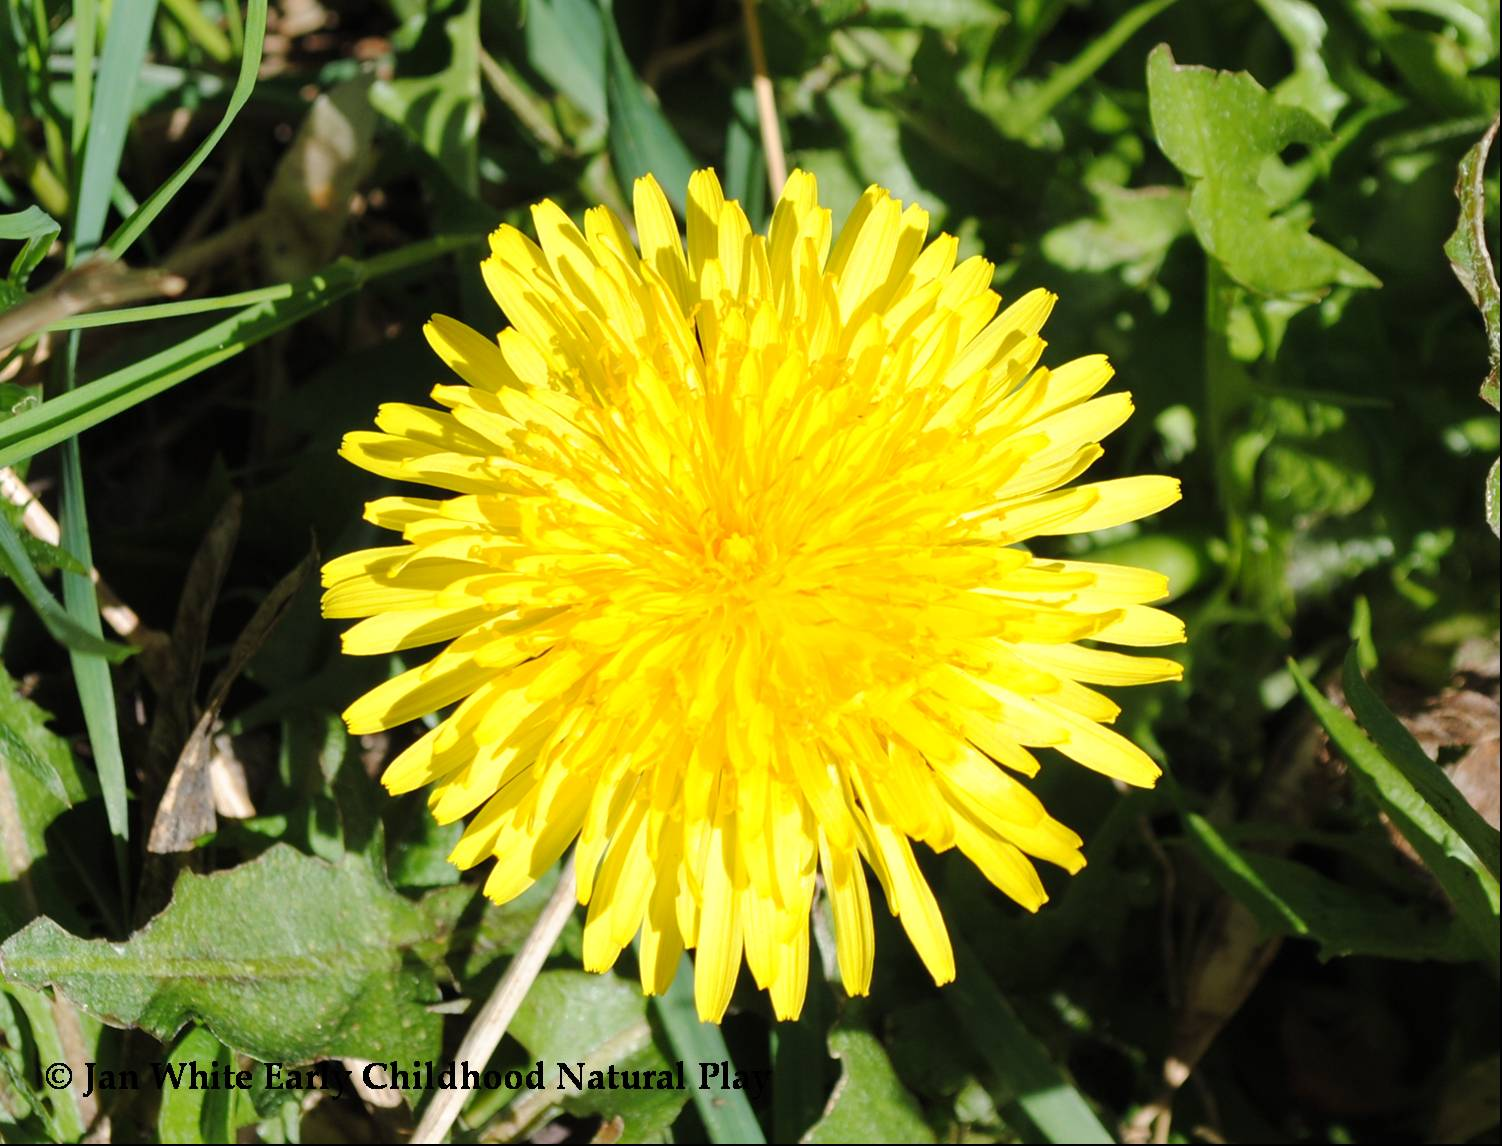dandelion: (324, 207, 1198, 1036)
